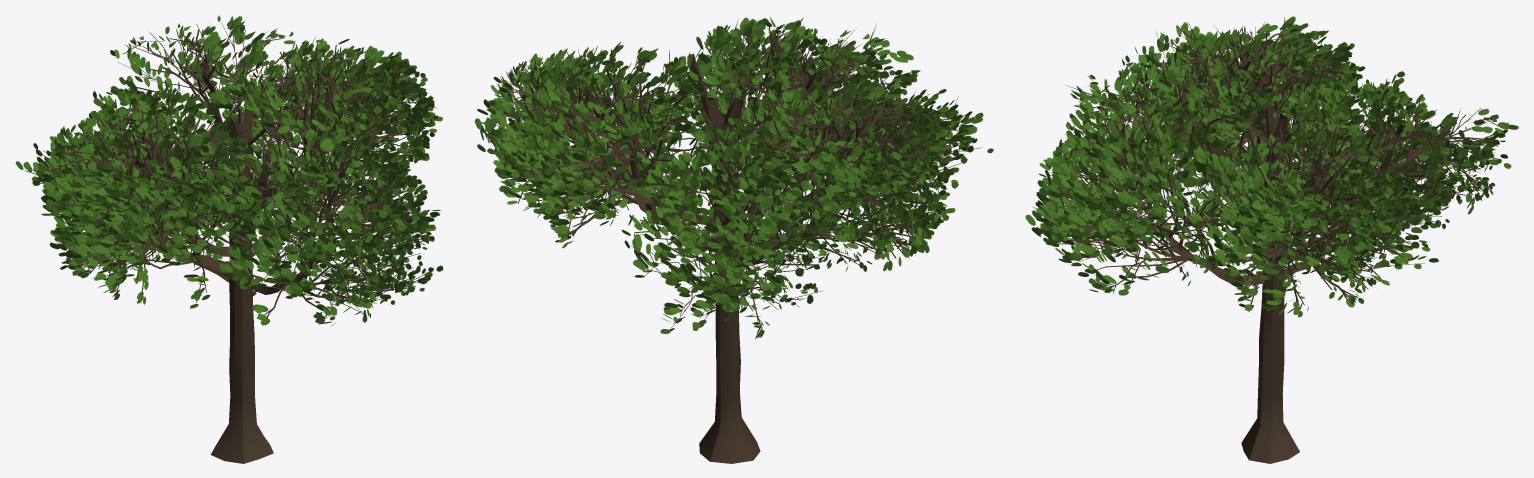
The picture shows the model from 3 angles, left to right: view 1: azimuth 30°, elevation 25°; view 2: azimuth 150°, elevation 25°; view 3: azimuth 270°, elevation 25°; orthographic projection. The views are drawn at different scales.
Parts seen in each view (by area): view 1: oak 01.001_trunk_Mat.001_0.006; view 2: oak 01.001_trunk_Mat.001_0.006; view 3: oak 01.001_trunk_Mat.001_0.006.
Part boxes in pixels (<box>): oak 01.001_trunk_Mat.001_0.006: <box>15,16,443,463</box>; oak 01.001_trunk_Mat.001_0.006: <box>474,17,993,463</box>; oak 01.001_trunk_Mat.001_0.006: <box>1025,16,1518,463</box>.
Bounding box in the file's own units: 4.38 × 3.62 × 4.54.
Materials: 2 (1 with a texture image).
